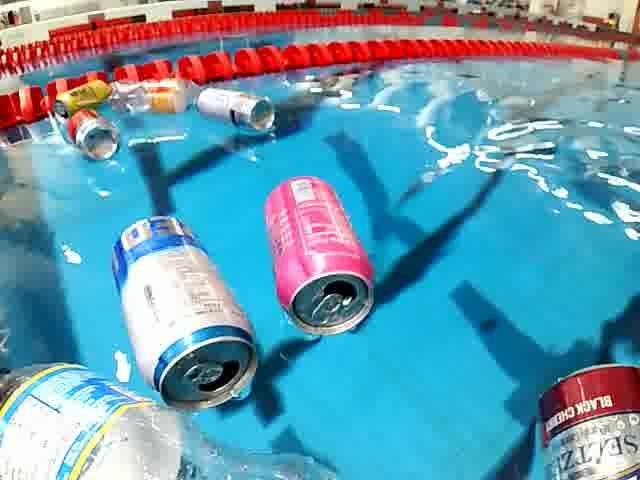Bottle: (1, 352, 342, 480), (101, 76, 215, 115)
Can: (98, 213, 264, 413), (256, 175, 386, 341), (526, 357, 640, 480), (186, 86, 280, 134), (62, 108, 124, 166), (52, 79, 110, 123)
